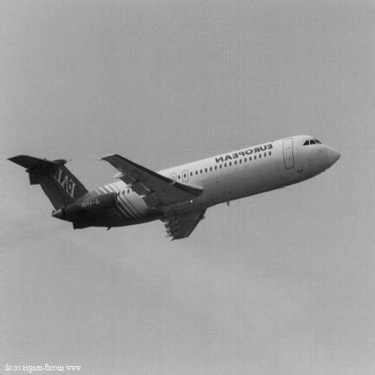airplane: (2, 122, 350, 248)
